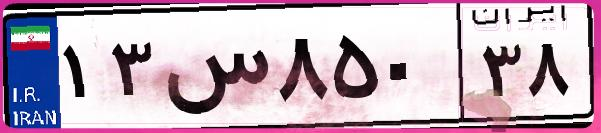0: (385, 28, 445, 110)
1: (57, 26, 110, 100)
3: (475, 38, 525, 113), (110, 28, 158, 98)
5: (330, 28, 385, 110)
8: (270, 28, 330, 110), (525, 38, 570, 115)
س: (158, 20, 270, 120)
